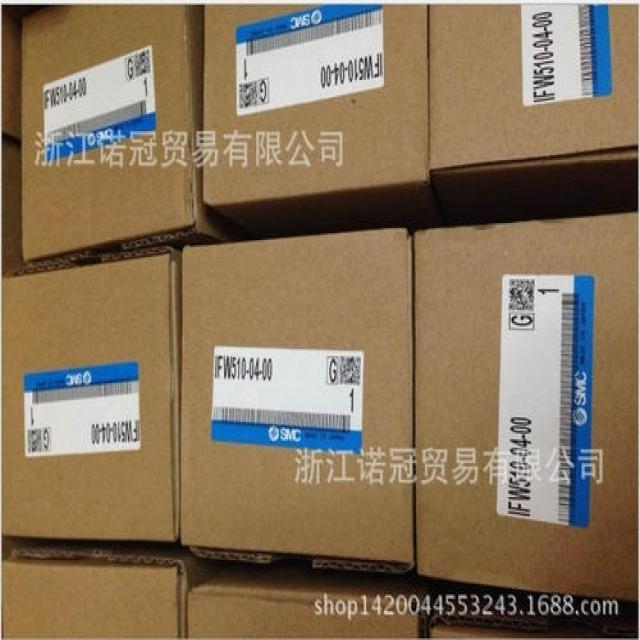box: (414, 211, 639, 603), (181, 228, 416, 567), (204, 6, 438, 242), (21, 8, 239, 259), (2, 250, 183, 537), (429, 4, 638, 223), (2, 540, 221, 638), (187, 563, 447, 637), (425, 596, 639, 638), (1, 3, 22, 142), (2, 135, 23, 272)
